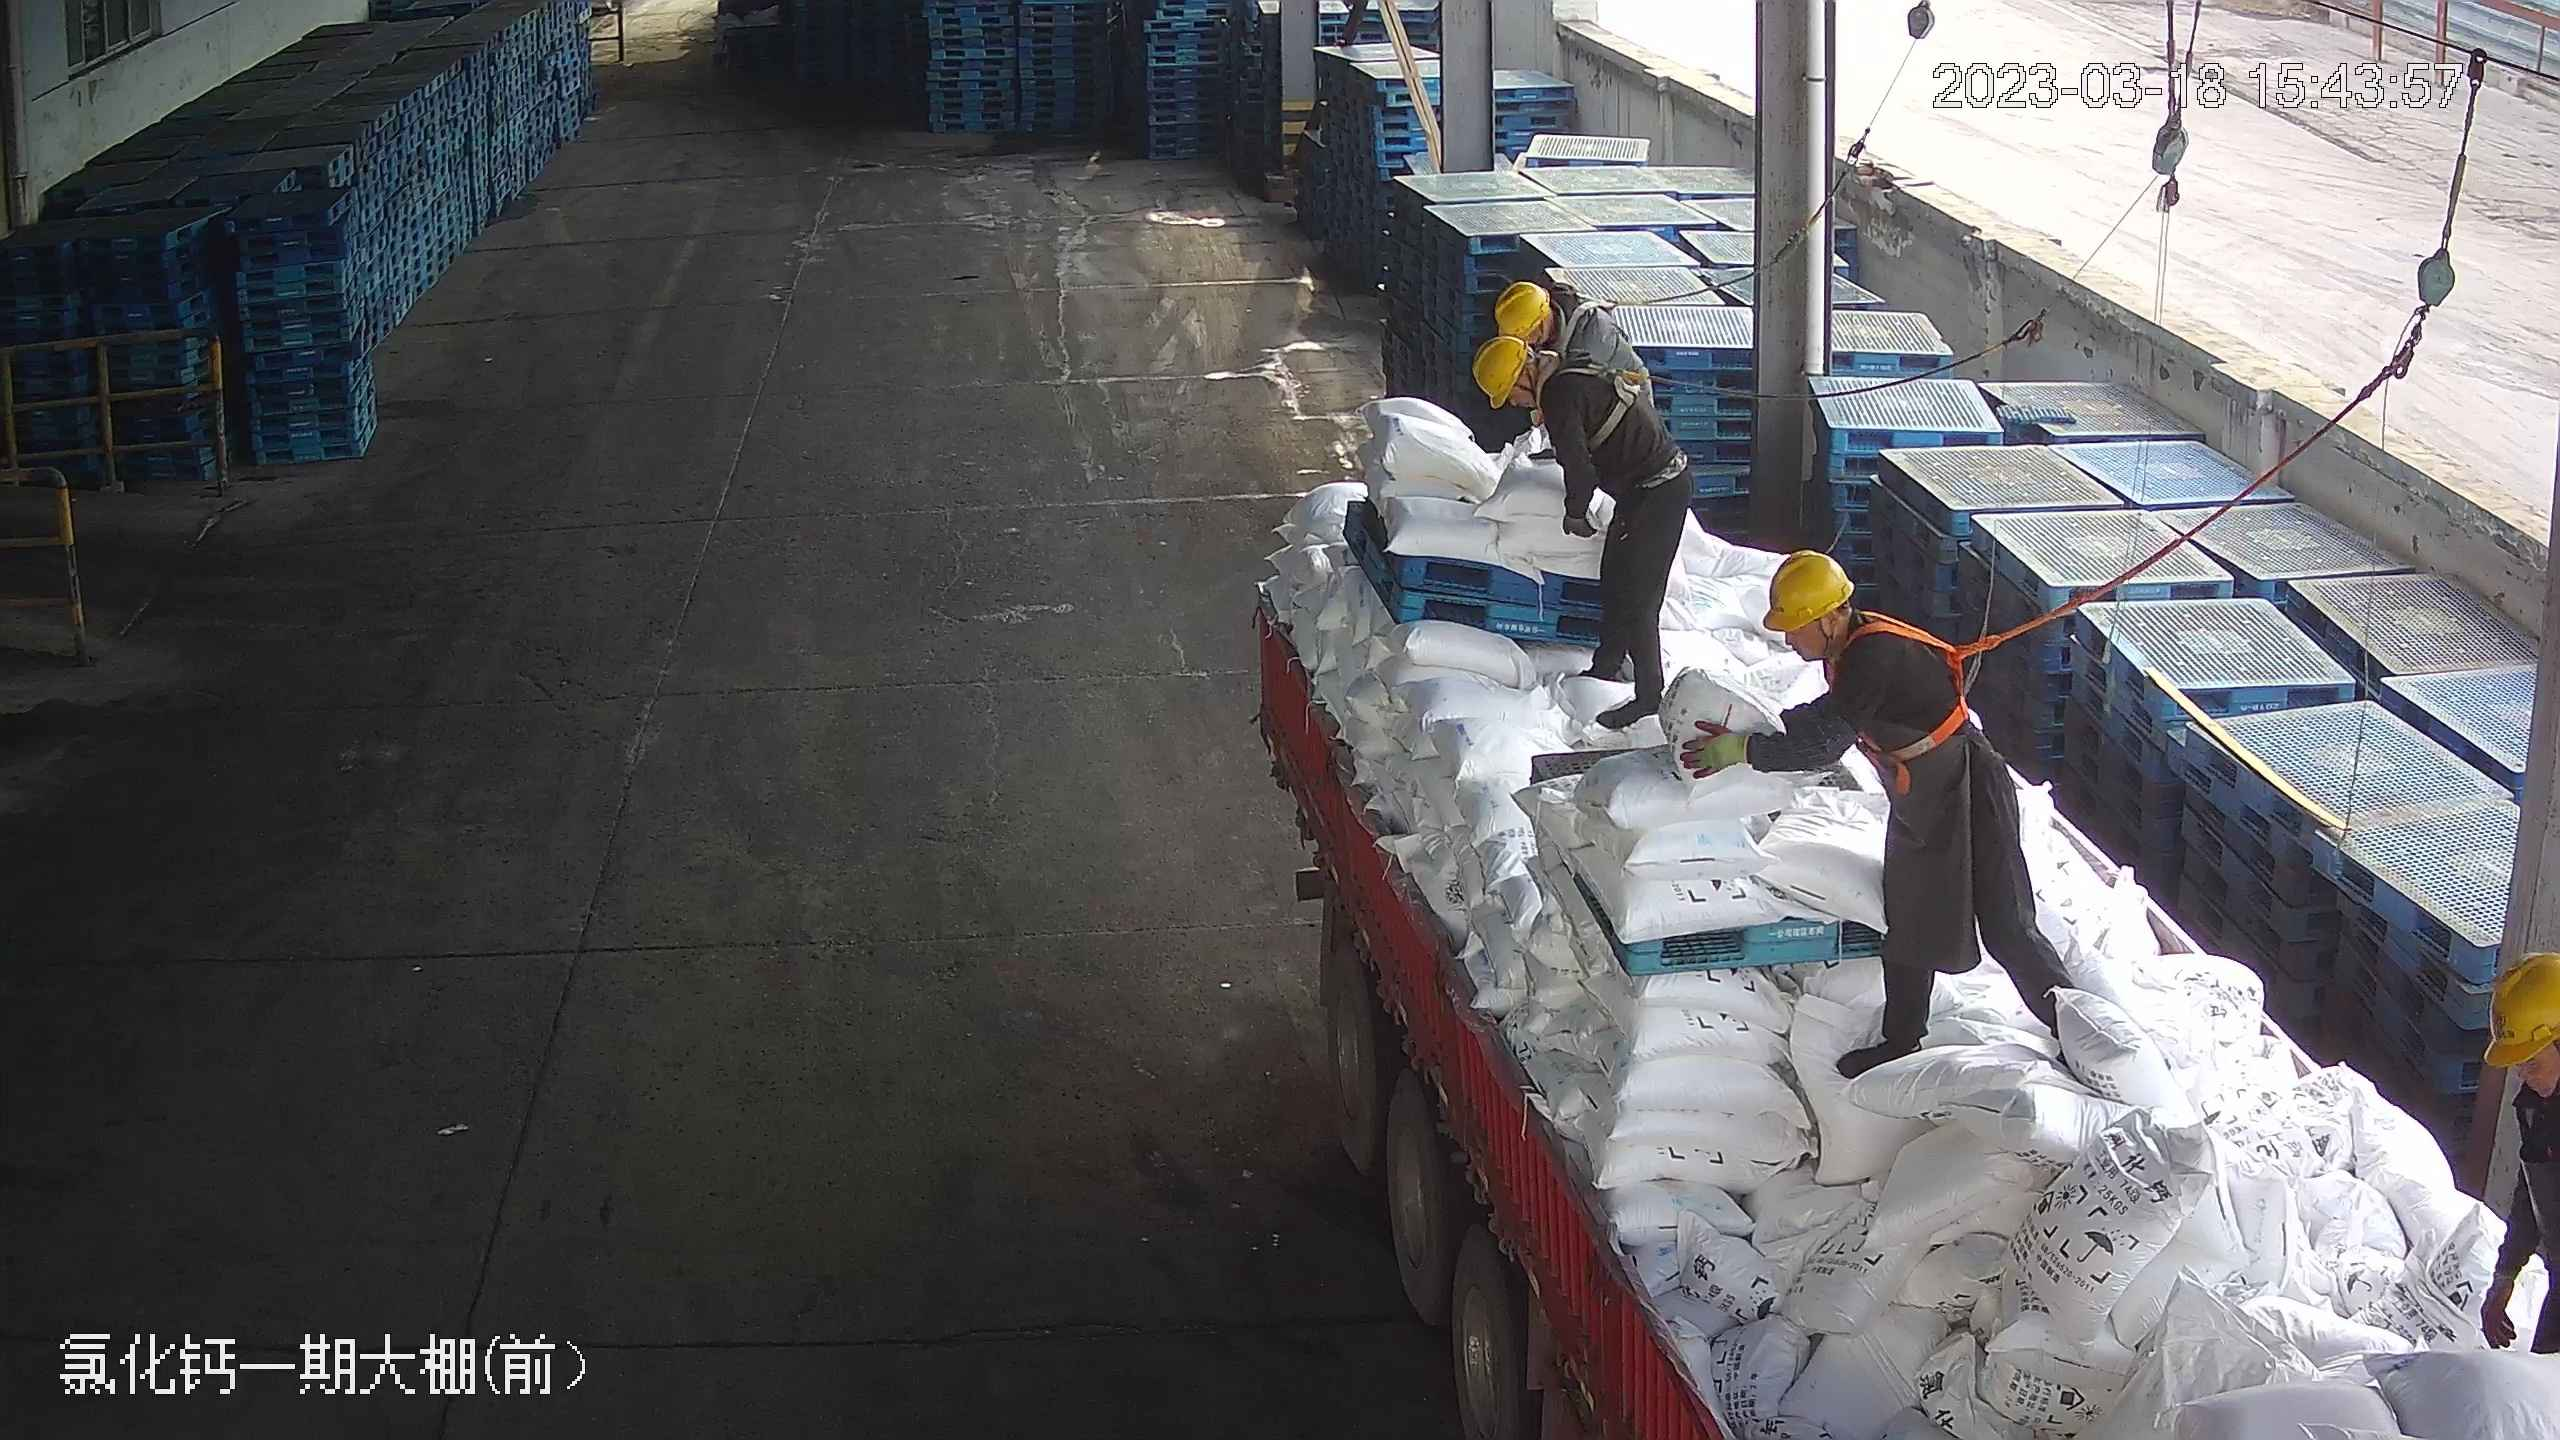belt: (1844, 604, 1994, 770), (1546, 343, 1657, 449), (1545, 283, 1635, 350)
head: (1760, 547, 1942, 711), (1475, 325, 1616, 436)
helmet: (2482, 945, 2560, 1070), (1762, 546, 1855, 631), (1474, 334, 1529, 407), (1492, 278, 1552, 342)
people: (1675, 553, 2073, 1078), (1479, 322, 1689, 720)
